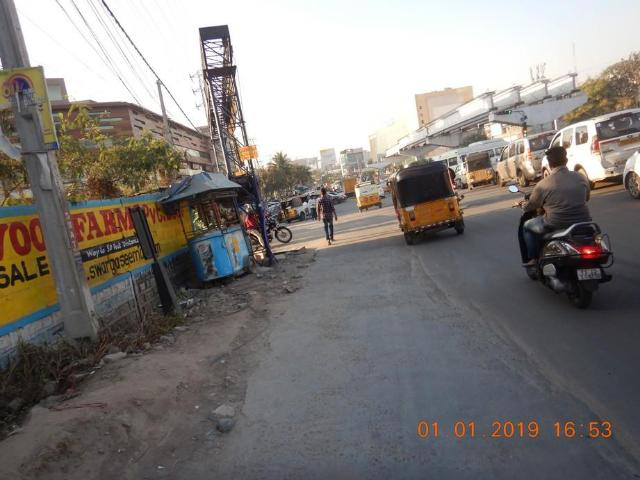motor: (520, 214, 615, 310)
non-helm: (547, 148, 570, 171)
